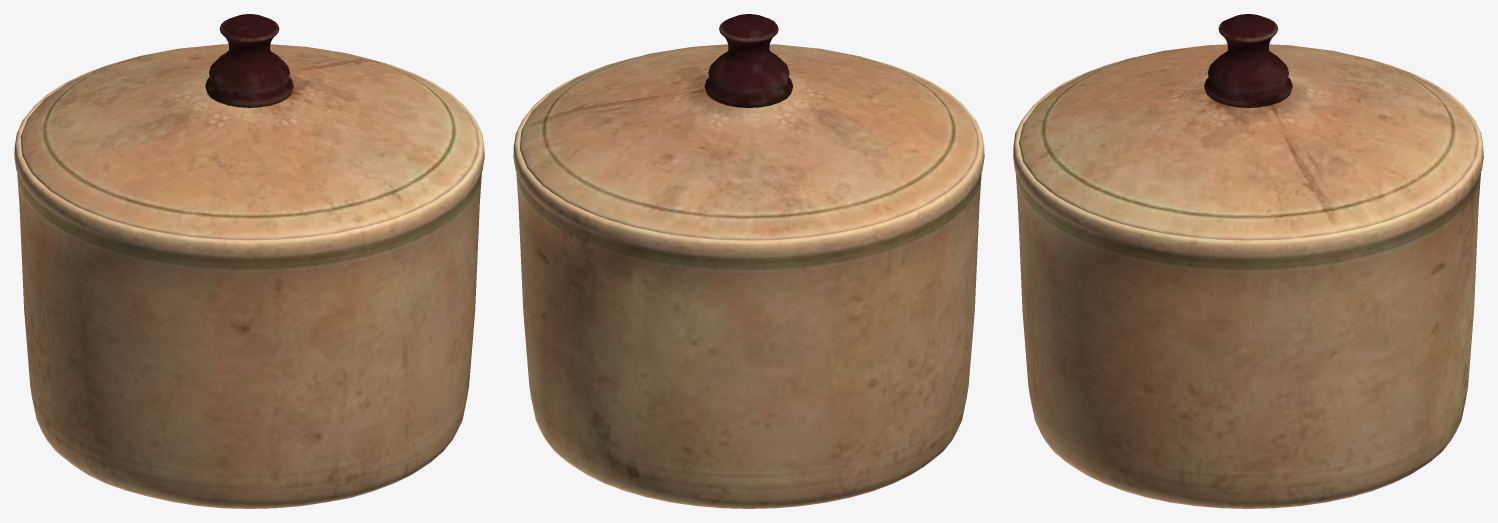
Rendered from brass_pot_01.glb.
3 renders of one model, left to right at view 1: azimuth 30°, elevation 25°; view 2: azimuth 150°, elevation 25°; view 3: azimuth 270°, elevation 25°, orthographic.
Parts seen in each view (by area): view 1: brass_pot_01_lod0; view 2: brass_pot_01_lod0; view 3: brass_pot_01_lod0.
Boxes of the visible parts, bbox=[...] form: brass_pot_01_lod0: bbox=[14, 14, 484, 508]; brass_pot_01_lod0: bbox=[513, 14, 984, 508]; brass_pot_01_lod0: bbox=[1013, 14, 1483, 508].
Size of what is drawn, in the model's own units: 0.3019 by 0.2909 by 0.3017.
Materials: 1 (1 with a texture image).
